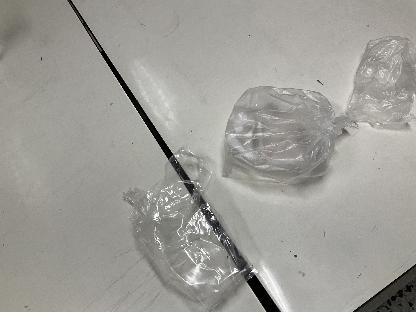Others: (109, 145, 257, 306), (217, 60, 347, 188), (346, 25, 416, 135)
